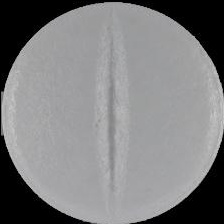49884-827: (0, 0, 224, 224)
